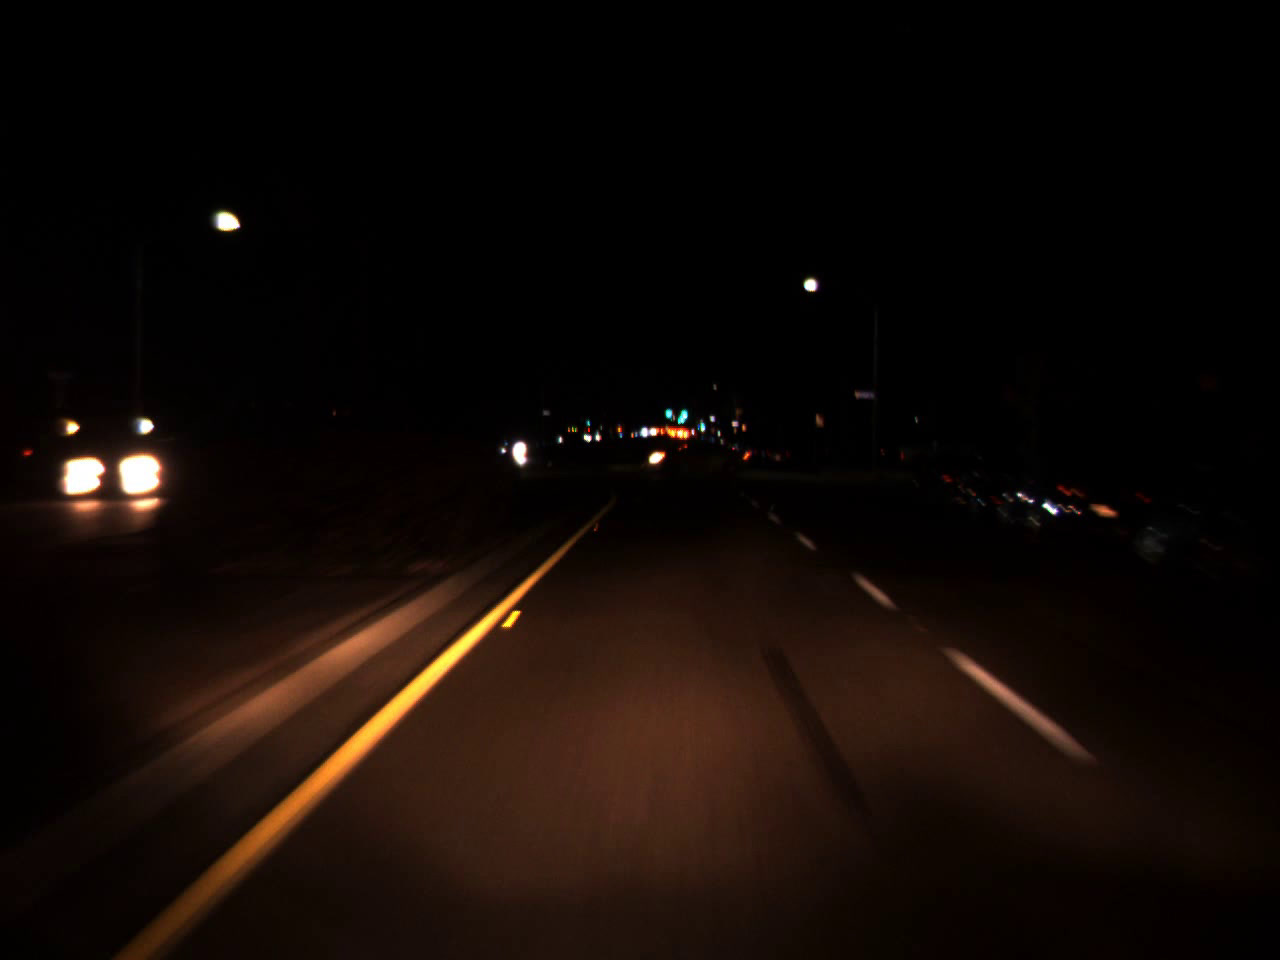go: (676, 400, 690, 421), (663, 398, 673, 422), (699, 418, 706, 430)
